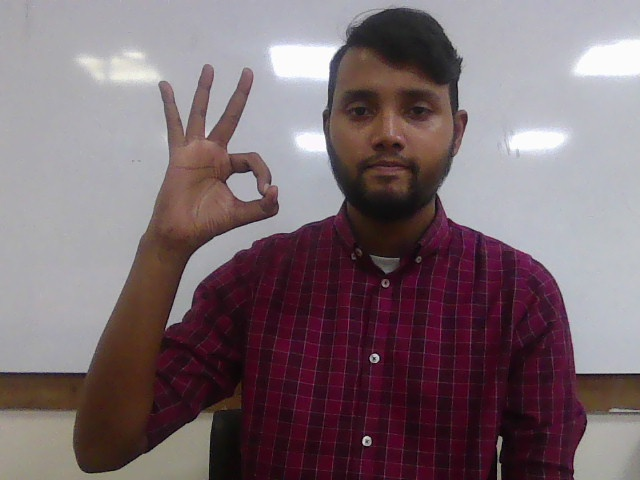Shundor: (154, 63, 281, 248)
